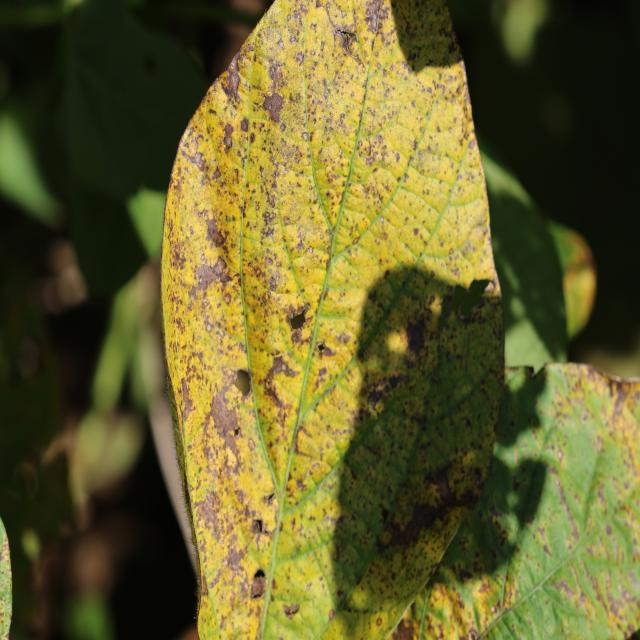Bacterial_Blight: (354, 377, 429, 494), (267, 165, 328, 284), (201, 499, 254, 592), (255, 359, 301, 437), (188, 242, 238, 308), (272, 130, 306, 175), (266, 67, 293, 118), (359, 131, 391, 166), (366, 374, 396, 411), (405, 315, 429, 356), (220, 427, 243, 467), (268, 352, 297, 379), (223, 64, 242, 104), (363, 0, 385, 34), (178, 144, 205, 170), (170, 238, 187, 271), (206, 222, 225, 249), (264, 266, 283, 291), (180, 393, 195, 422), (222, 122, 235, 150), (262, 207, 278, 228), (334, 538, 347, 560), (1, 539, 10, 565), (294, 51, 305, 66), (541, 543, 552, 557), (240, 117, 249, 133), (512, 477, 521, 492), (606, 523, 613, 536), (328, 608, 335, 620), (277, 39, 284, 50), (305, 581, 312, 591), (557, 449, 563, 459), (413, 227, 419, 236), (376, 617, 382, 626), (255, 202, 260, 210), (379, 217, 384, 225), (200, 253, 205, 261)
Soybean: (158, 0, 504, 640)
